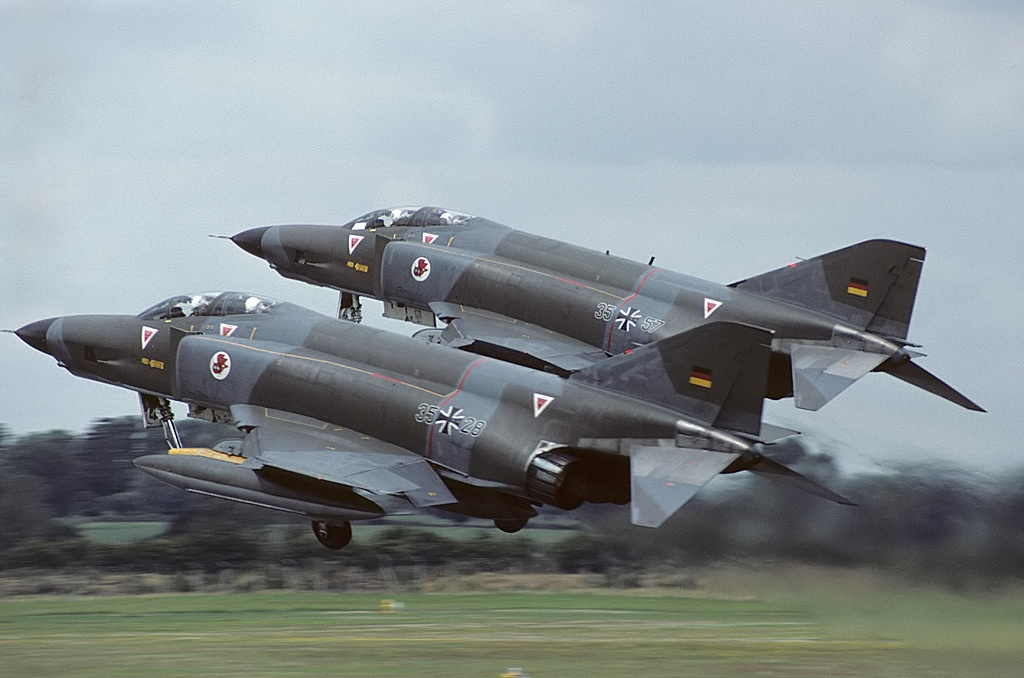F4: (1, 290, 860, 549), (208, 205, 988, 413)
